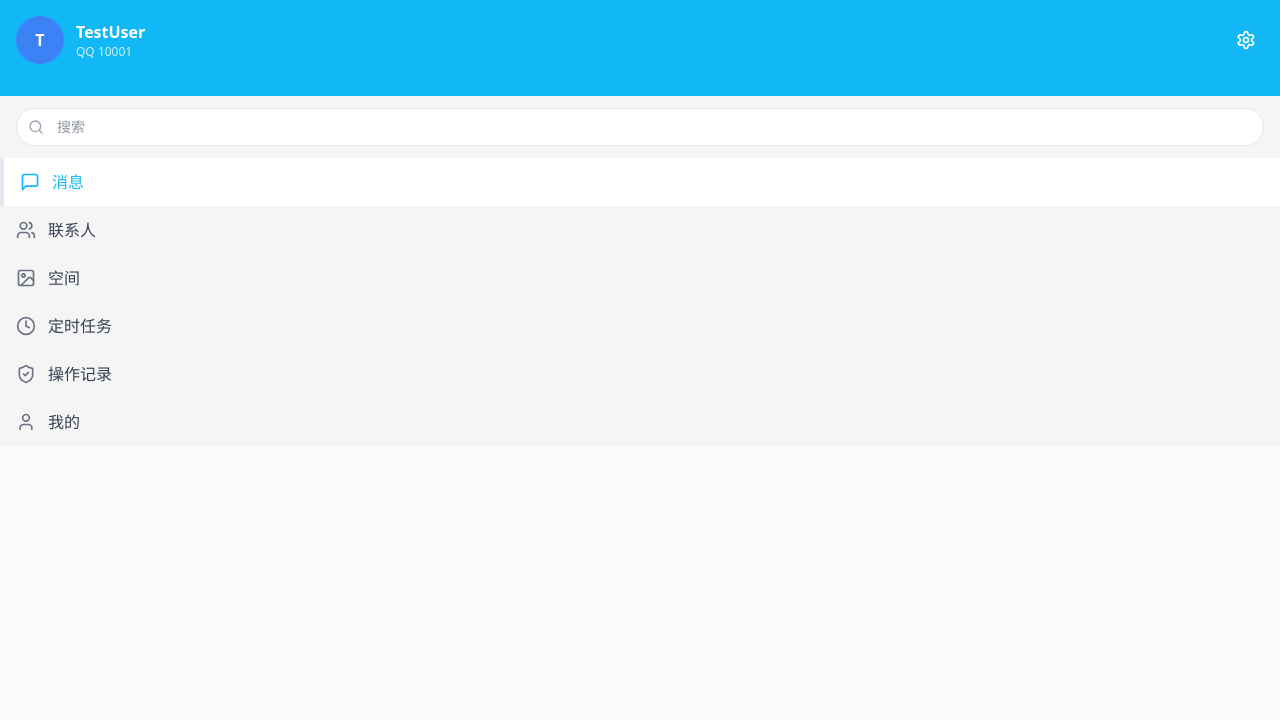
it: Sidebar › toggles settings menu on settings button click
This screenshot has width=1280, height=720.
Expected: the text "个人资料" is not shown
Expected: the text "退出登录" is not shown
Click settings button
Click the button at (1246, 40), box [1228,22,1264,58]
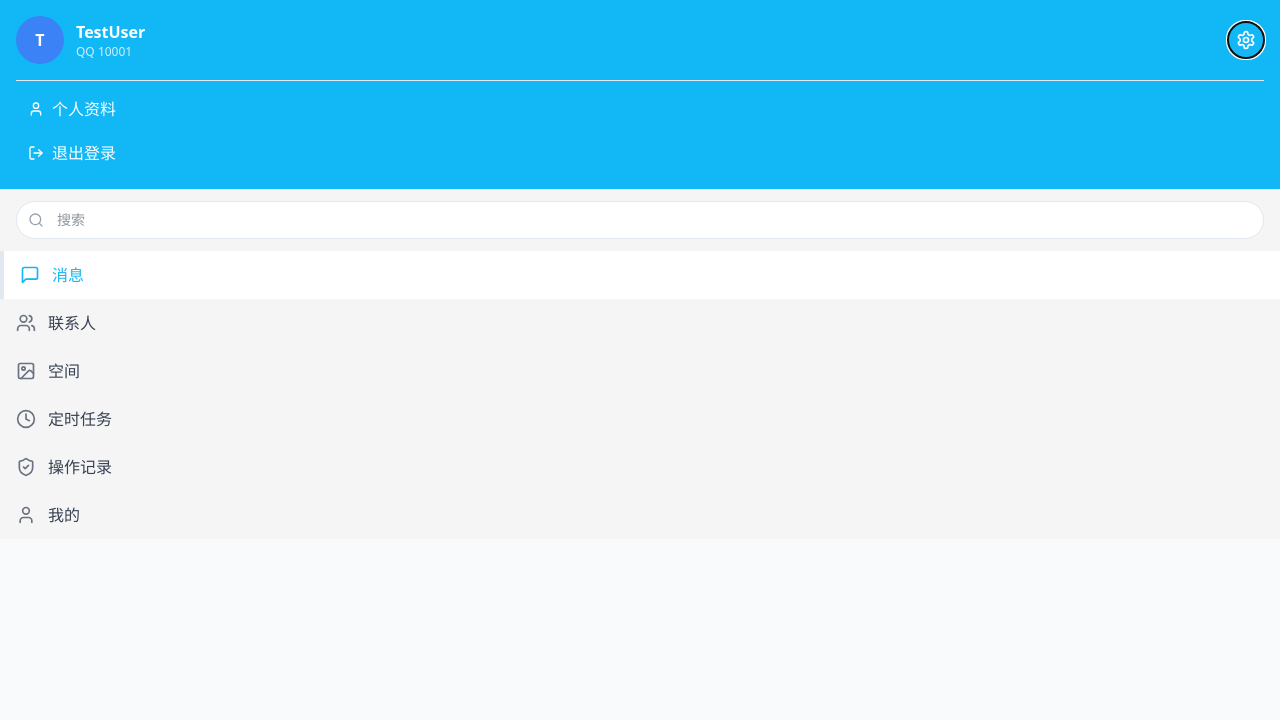
Now the text "个人资料" is shown, box [52,97,116,121]
Now the text "退出登录" is shown, box [52,141,116,165]
Click again to close
Click the 1st button at (1246, 40), box [1228,22,1264,58]
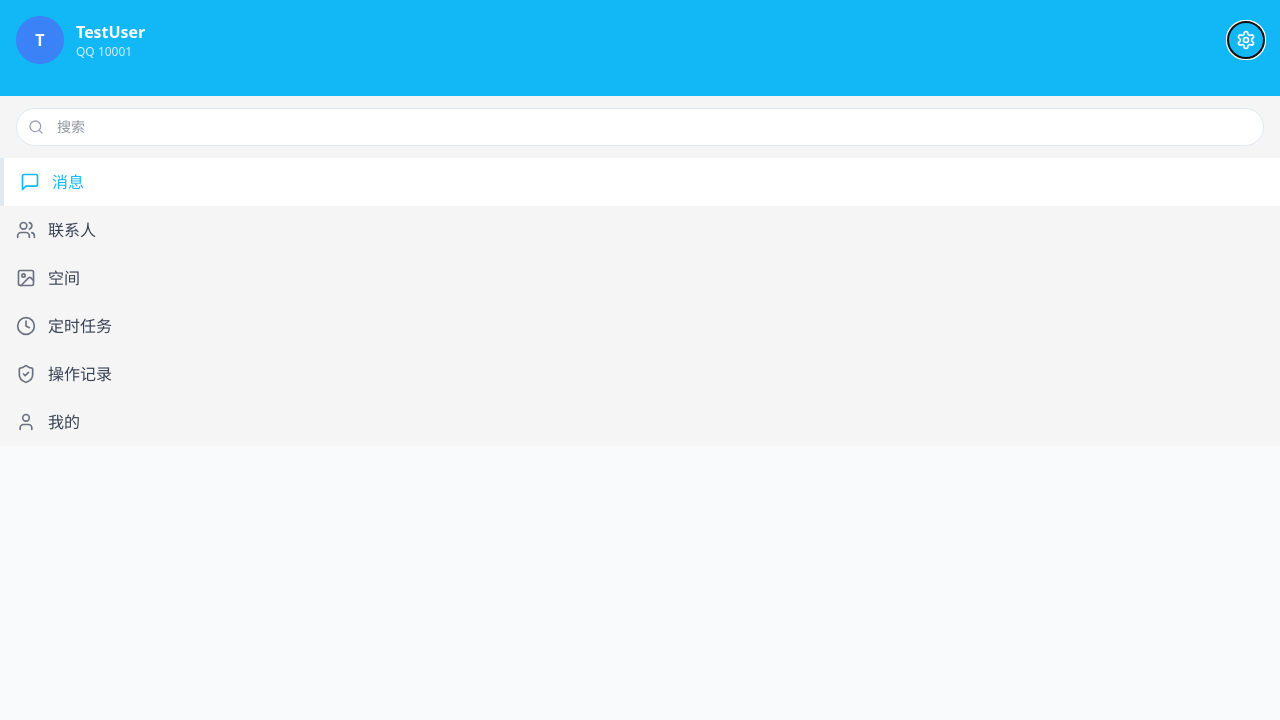
Now the link "个人资料" is gone
